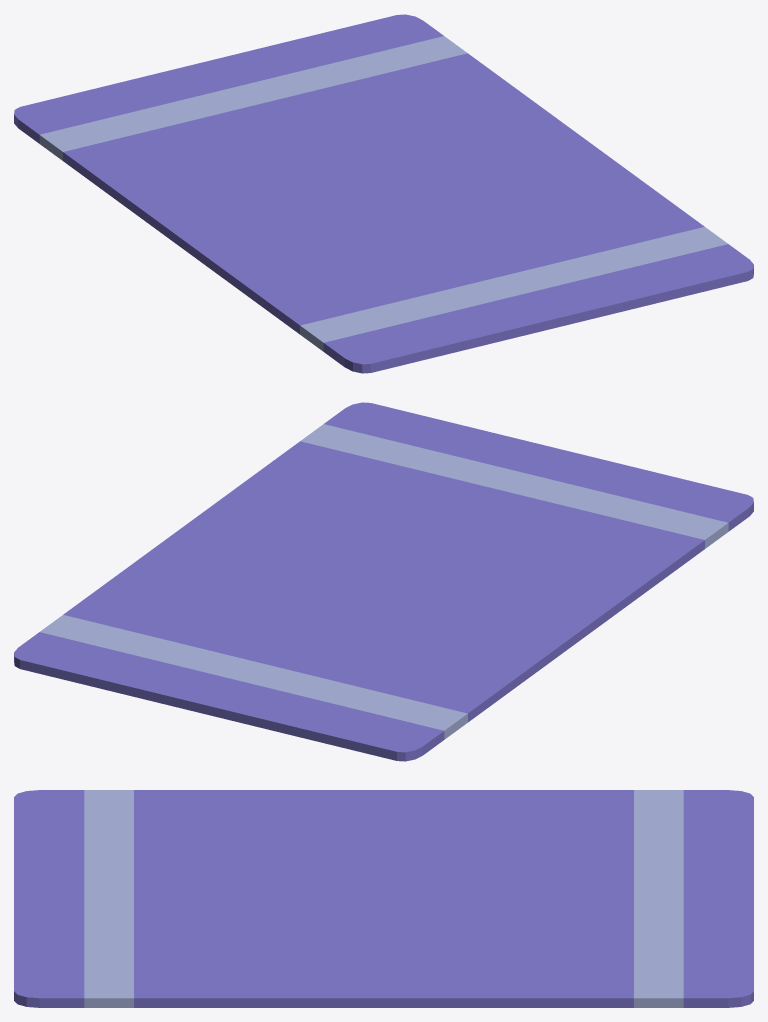
The model's file is Carpet_03.fbx.
3 renders of one model, top to bottom at view 1: azimuth 30°, elevation 25°; view 2: azimuth 150°, elevation 25°; view 3: azimuth 270°, elevation 25°, orthographic. The views are drawn at different scales.
Parts seen in each view (by area): view 1: Carpet_03; view 2: Carpet_03; view 3: Carpet_03.
Boxes of the visible parts, <box> form: Carpet_03: <box>14,14,753,373</box>; Carpet_03: <box>14,402,753,761</box>; Carpet_03: <box>14,790,753,1007</box>.
Bounding box in the file's own units: 63.68 × 1.38 × 95.64.
